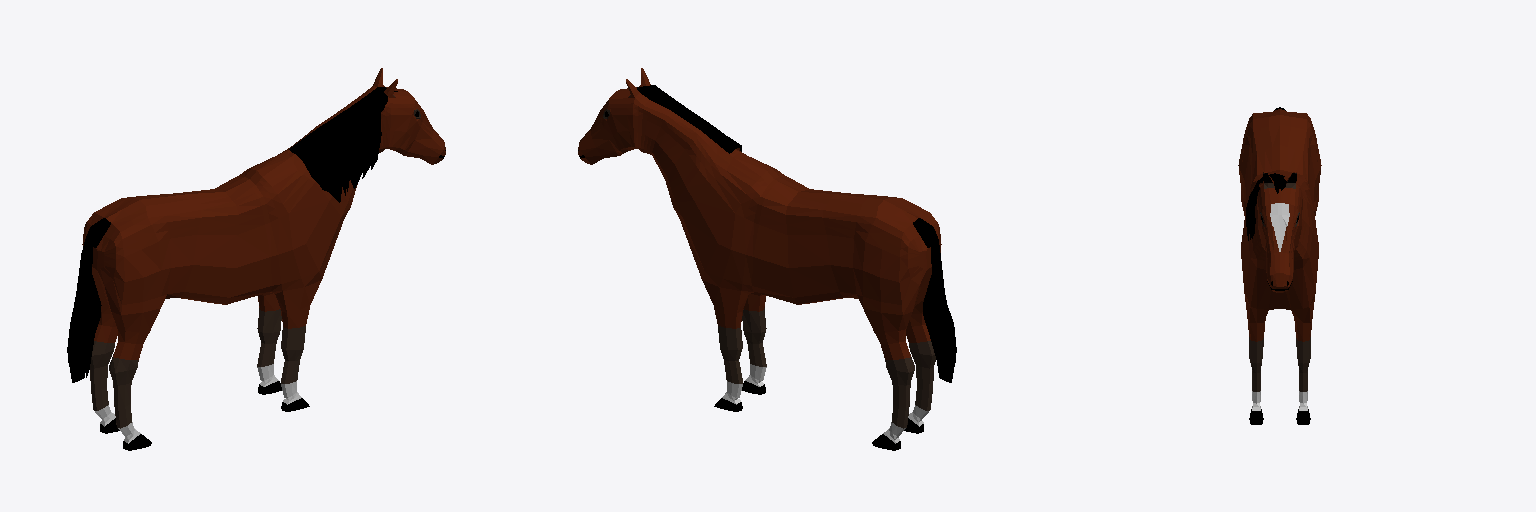
File: horse.obj
The picture shows the model from 3 angles: view 1: azimuth 30°, elevation 25°; view 2: azimuth 150°, elevation 25°; view 3: azimuth 270°, elevation 25°; orthographic projection.
Visible parts, largest first — view 1: Plane_Plane.001, Plane.002_Plane.003, Plane.001_Plane.002, Plane.003_Plane.004; view 2: Plane_Plane.001, Plane.002_Plane.003, Plane.001_Plane.002, Plane.003_Plane.004; view 3: Plane_Plane.001, Plane.001_Plane.002, Plane.002_Plane.003.
Boxes of the visible parts, x1=… form: Plane_Plane.001: x1=82, y1=152, x2=343, y2=314; Plane.002_Plane.003: x1=90, y1=280, x2=321, y2=450; Plane.001_Plane.002: x1=278, y1=68, x2=445, y2=219; Plane.003_Plane.004: x1=67, y1=218, x2=110, y2=382; Plane_Plane.001: x1=680, y1=152, x2=941, y2=314; Plane.002_Plane.003: x1=702, y1=280, x2=935, y2=450; Plane.001_Plane.002: x1=578, y1=68, x2=745, y2=219; Plane.003_Plane.004: x1=913, y1=218, x2=956, y2=382; Plane_Plane.001: x1=1238, y1=109, x2=1321, y2=309; Plane.001_Plane.002: x1=1246, y1=172, x2=1312, y2=292; Plane.002_Plane.003: x1=1242, y1=206, x2=1317, y2=424.
Size of the model in its own units: 2.24 by 1.7 by 0.4298.